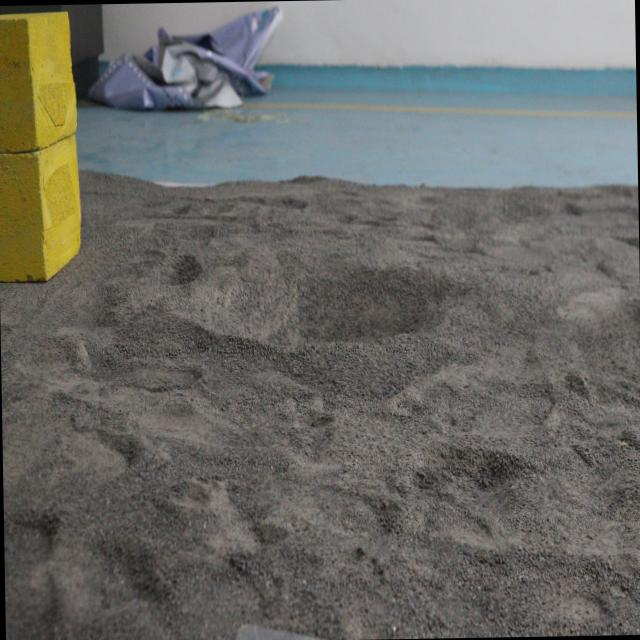crater: (145, 230, 468, 386)
